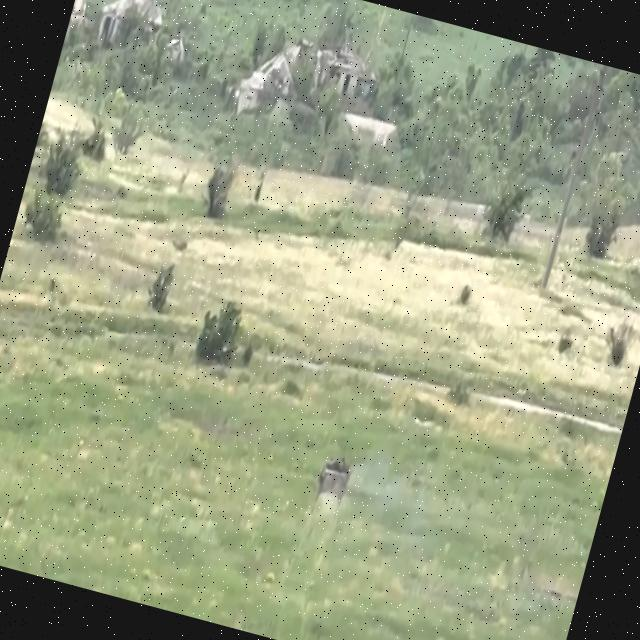AIFV: (314, 450, 358, 504)
